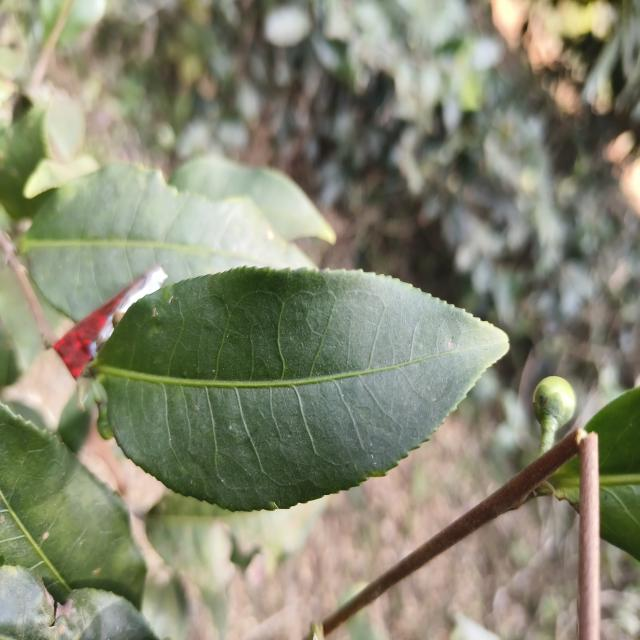Leaf: (92, 267, 508, 510), (21, 163, 314, 321), (0, 403, 146, 608), (169, 154, 336, 244), (0, 565, 158, 640), (586, 387, 640, 561), (0, 96, 48, 219), (549, 459, 581, 508)
